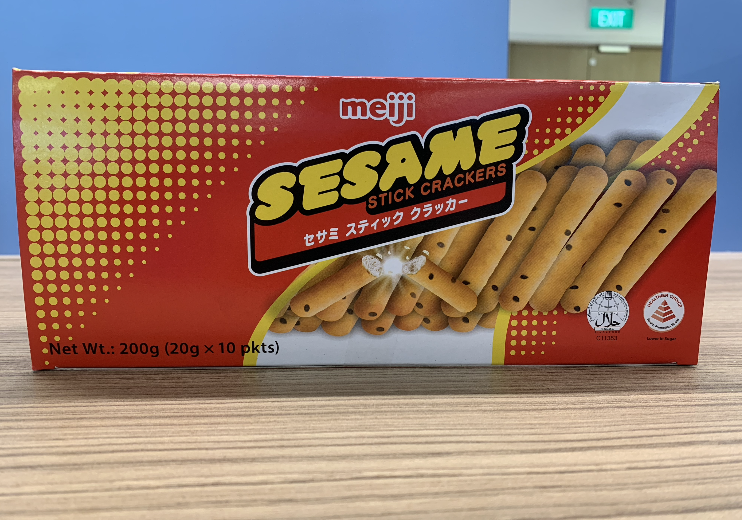crackers_150g: (43, 93, 689, 362)
